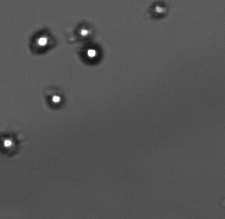Living Cell: (30, 30, 53, 51), (81, 44, 103, 64), (46, 91, 65, 108), (1, 135, 17, 154), (77, 24, 93, 40), (150, 4, 167, 17)
